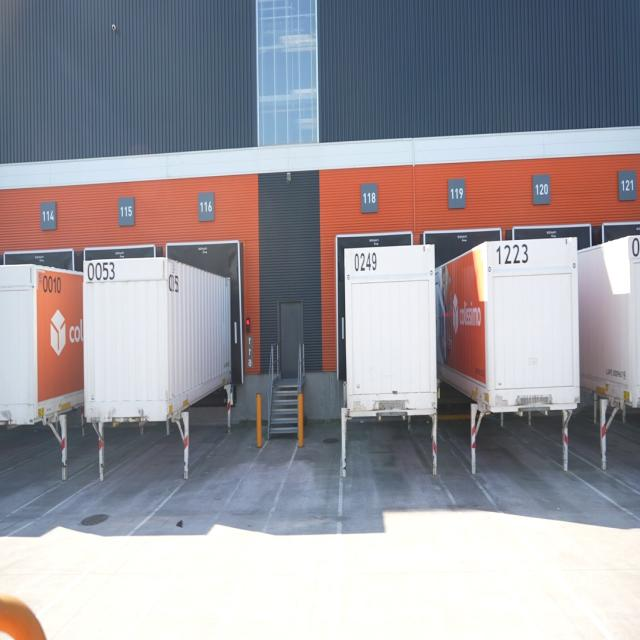Code: (84, 258, 117, 284), (354, 250, 379, 275), (41, 270, 63, 294)
